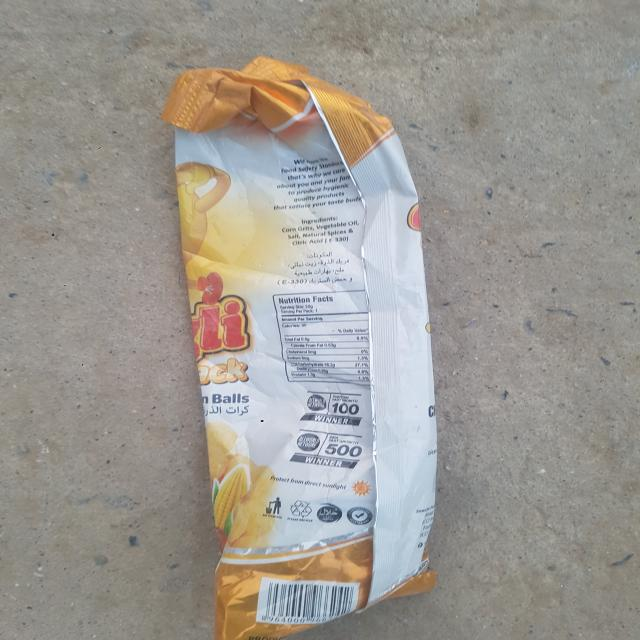electronic: (166, 56, 441, 638)
